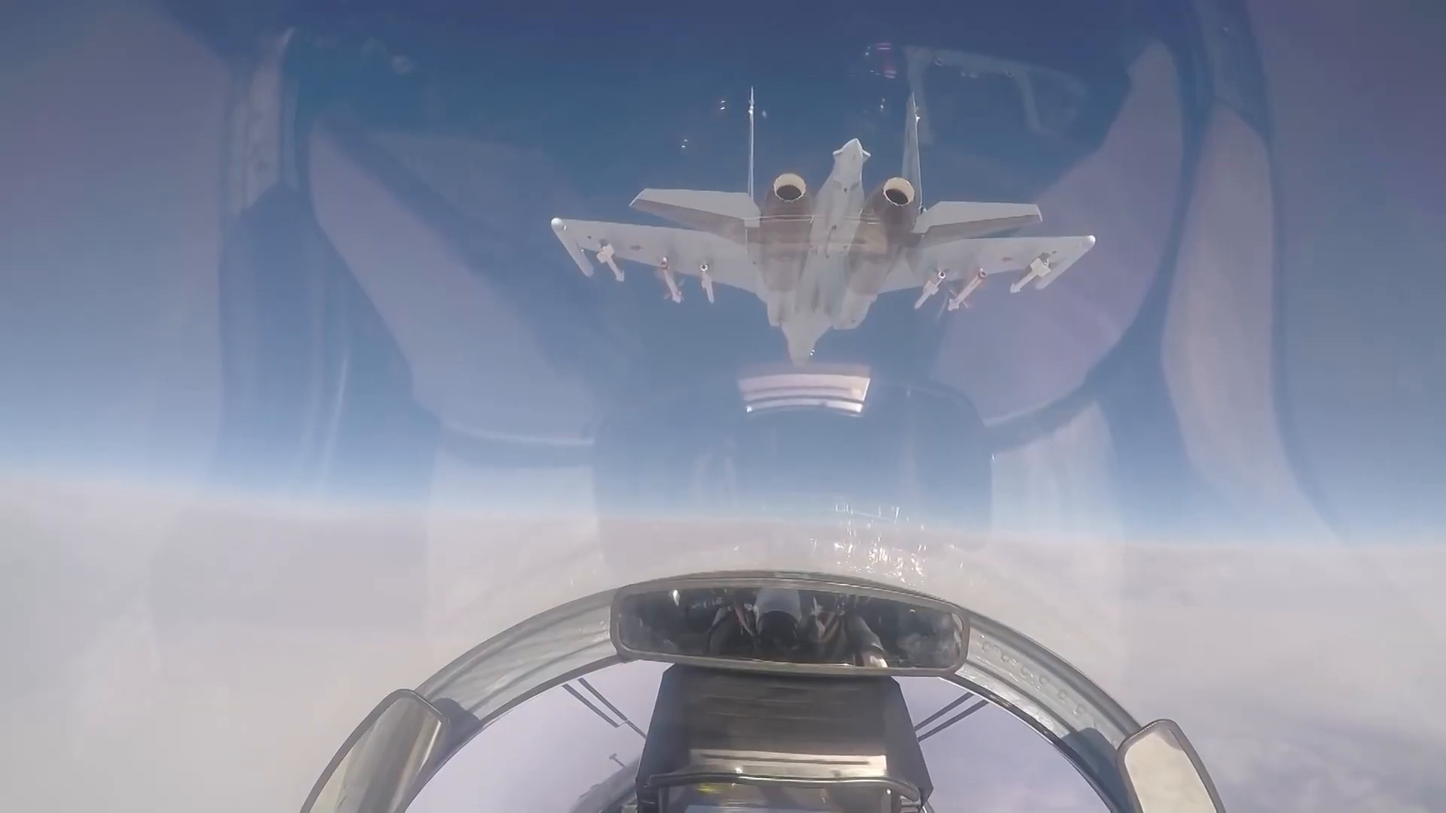Su35: (551, 87, 1098, 367)
